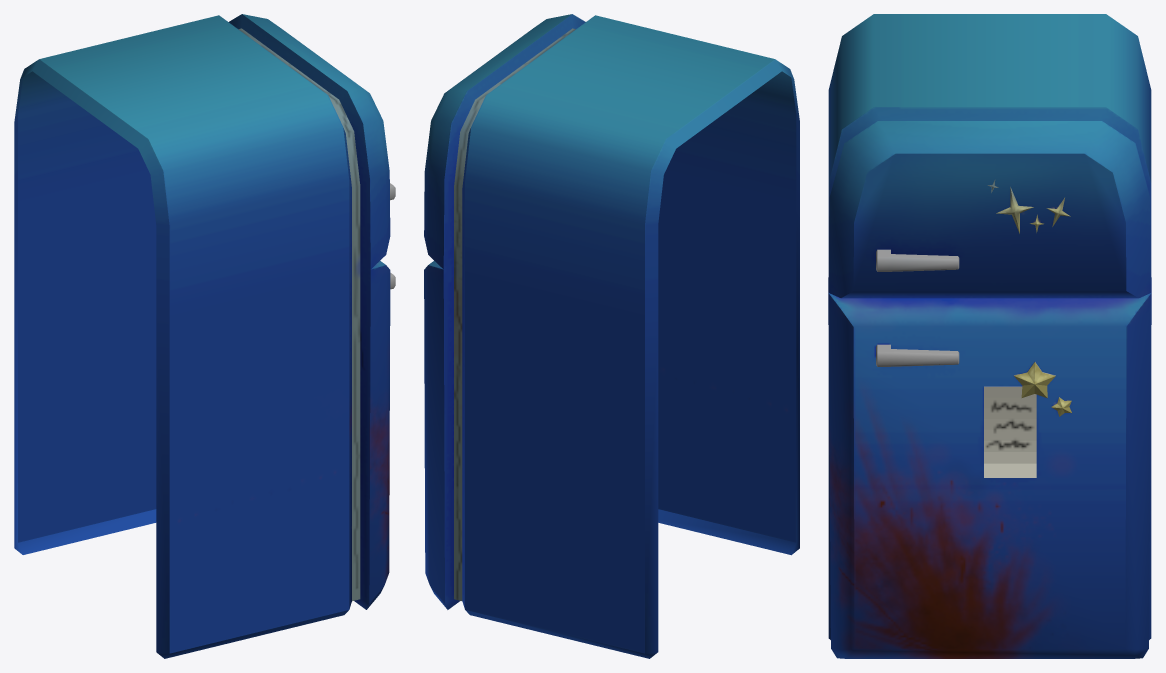
The model's file is PROP_017_Fridge.fbx.
The picture shows the model from 3 angles, left to right: view 1: azimuth 30°, elevation 25°; view 2: azimuth 150°, elevation 25°; view 3: azimuth 270°, elevation 25°; orthographic projection. The views are drawn at different scales.
Parts seen in each view (by area): view 1: Nevera_002; view 2: Nevera_002; view 3: Nevera_002.
Boxes of the visible parts, x1,y1,x2,y2 form: Nevera_002: (14, 14, 395, 658); Nevera_002: (424, 14, 799, 658); Nevera_002: (828, 14, 1151, 658).
Bounding box in the file's own units: 0.9801 × 1.85 × 1.
1 material, 1 textured.
